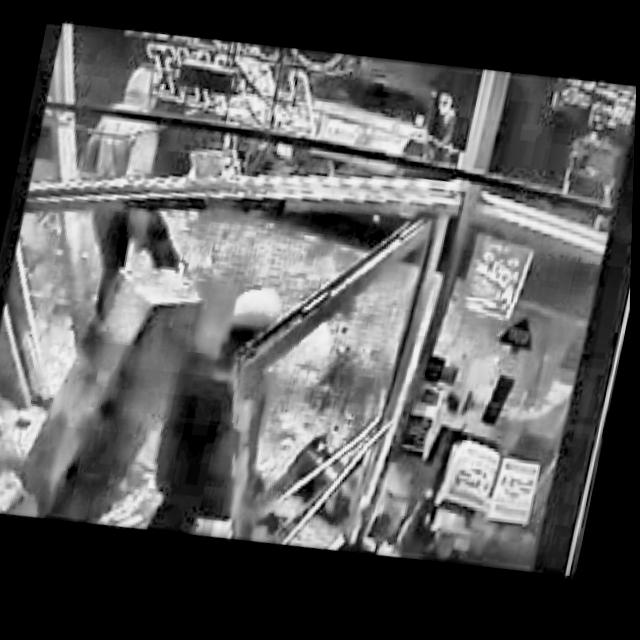burglary: (3, 51, 260, 543), (267, 45, 452, 204)
